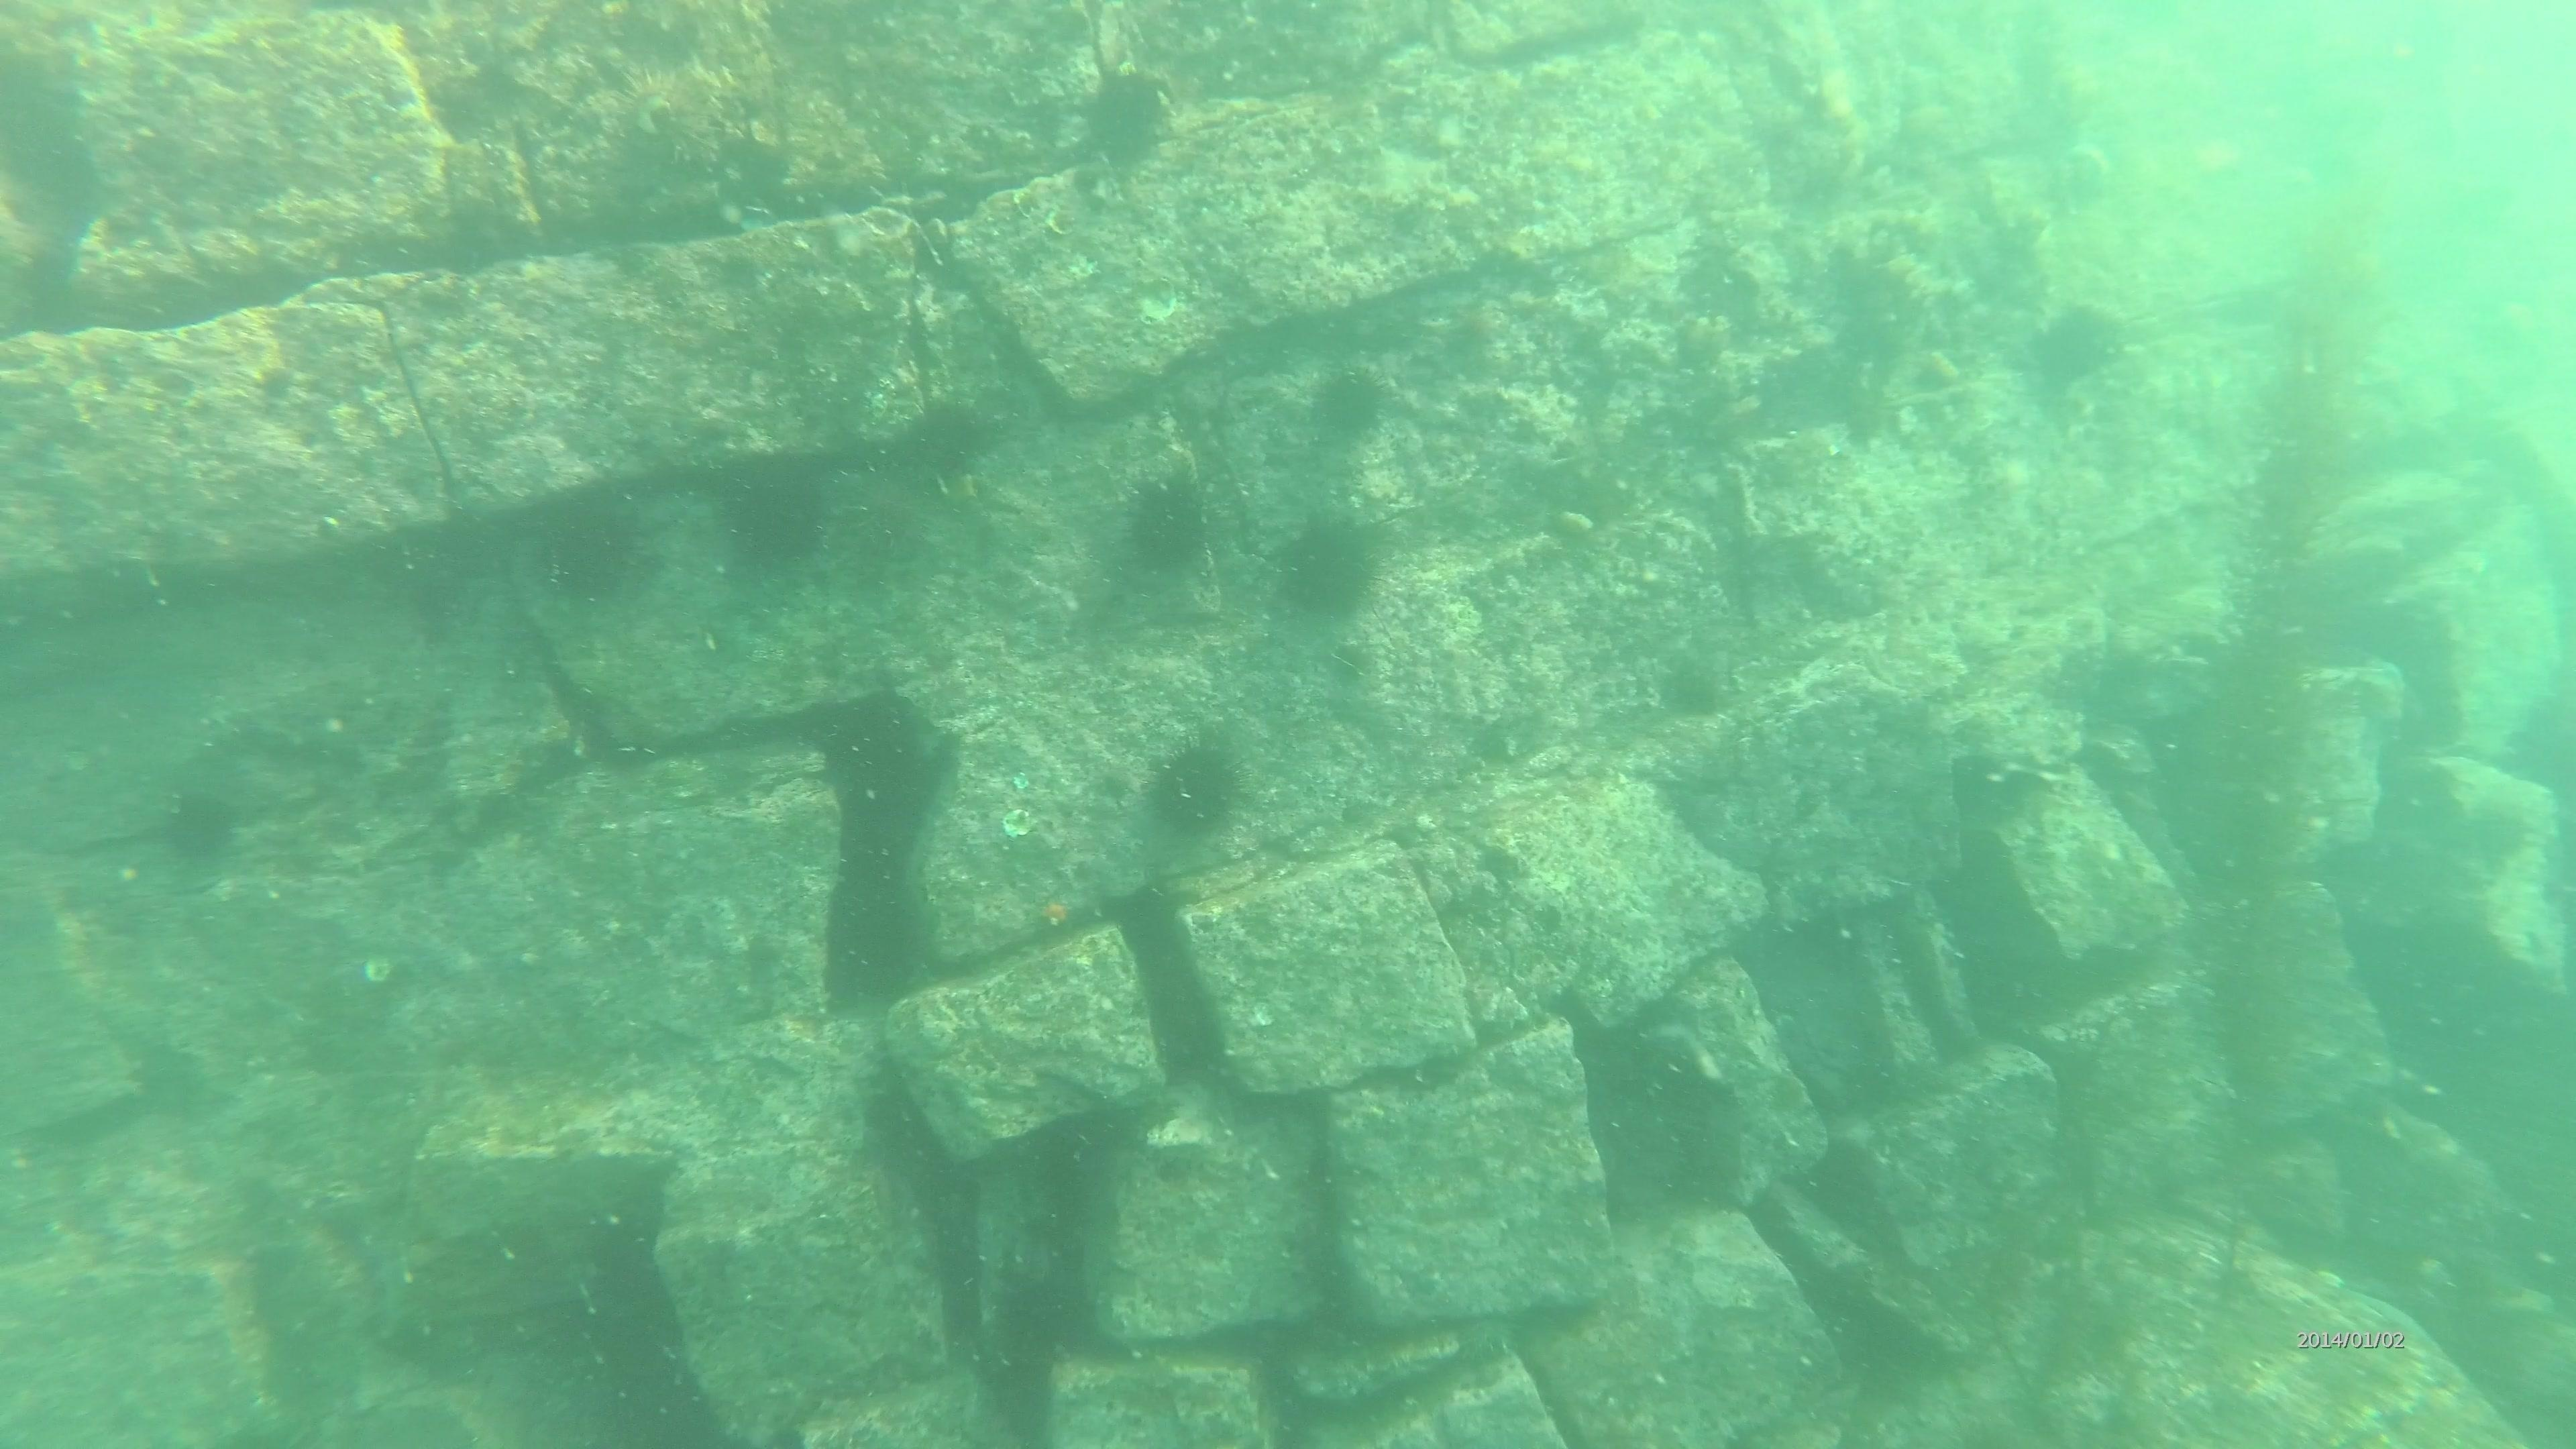echinus: (1269, 506, 1392, 626), (713, 458, 835, 575), (533, 494, 653, 610), (1138, 731, 1253, 847), (1115, 464, 1221, 582), (1074, 62, 1180, 175), (892, 389, 1001, 492), (152, 782, 248, 874), (1302, 357, 1396, 449)
